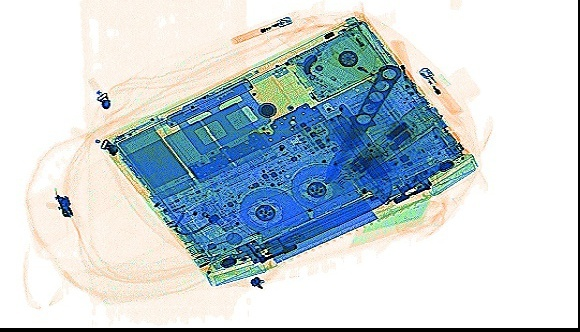knife: (320, 61, 400, 184)
lighter: (322, 46, 387, 90), (340, 12, 387, 68), (417, 66, 463, 116), (387, 36, 418, 98), (230, 14, 292, 42)
zippooil: (357, 124, 463, 206)
